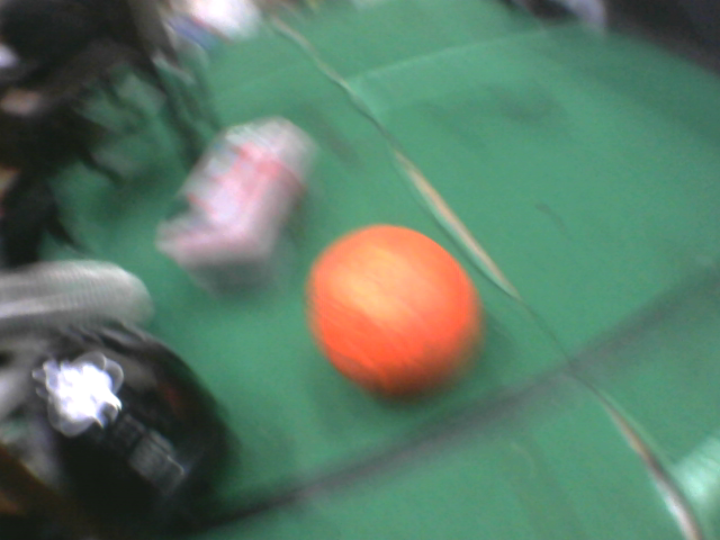bola: (297, 219, 487, 401)
